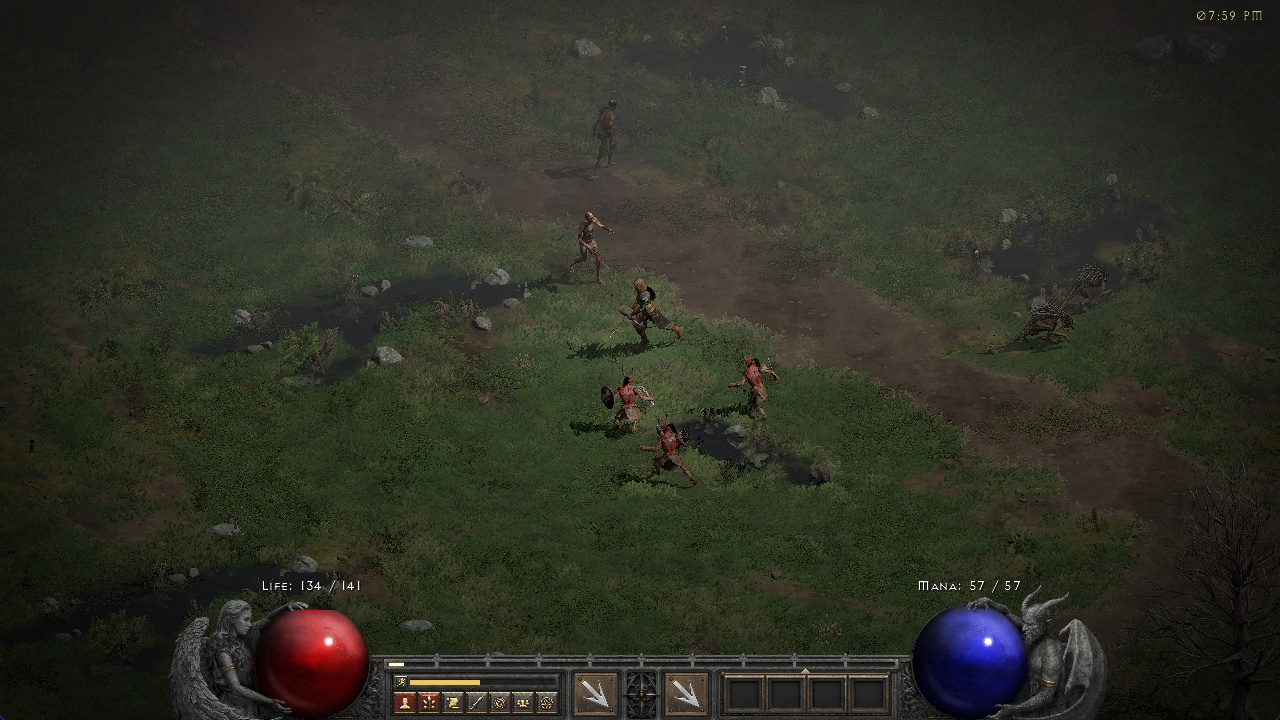fallen: (722, 351, 777, 419), (599, 369, 647, 431), (653, 425, 696, 484)
